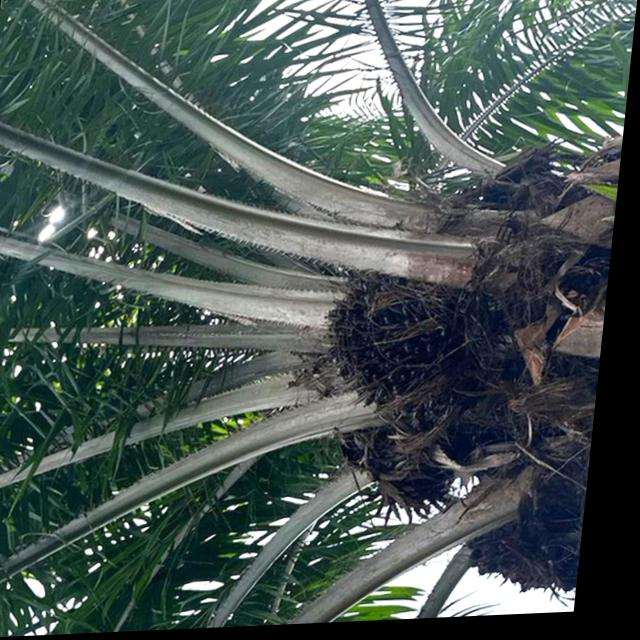almost: (309, 267, 483, 422), (459, 504, 593, 608)
